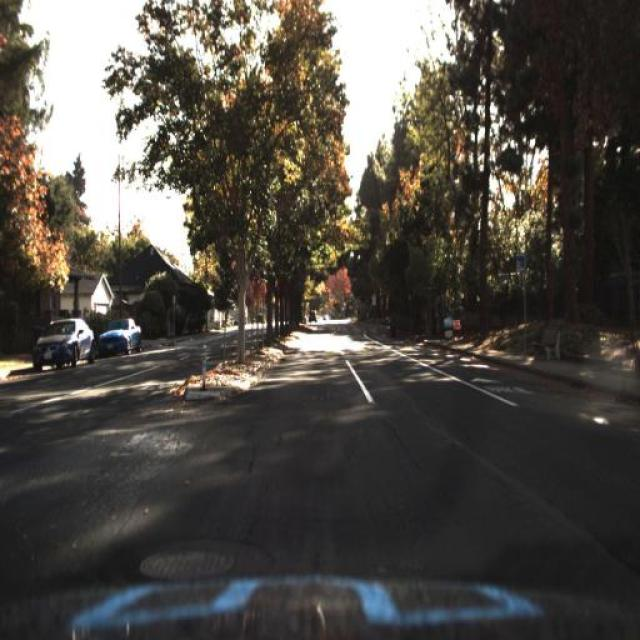car: (25, 303, 95, 372), (94, 310, 144, 360), (94, 312, 144, 362), (304, 305, 318, 330)
